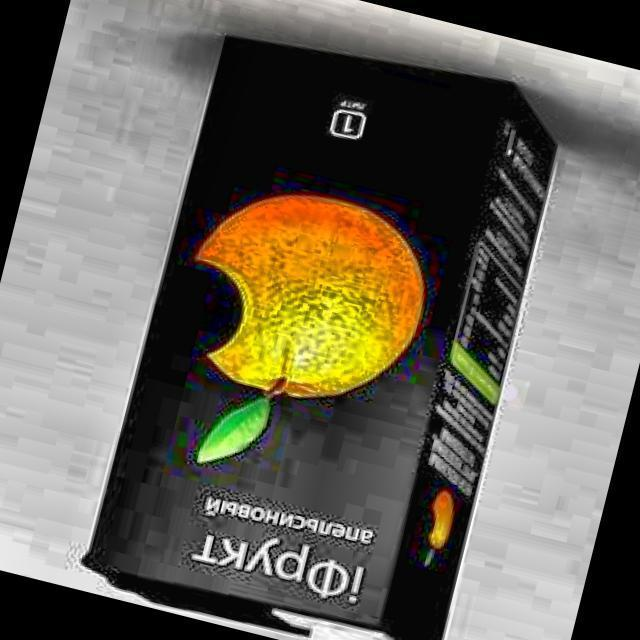cardboard: (75, 9, 583, 640)
